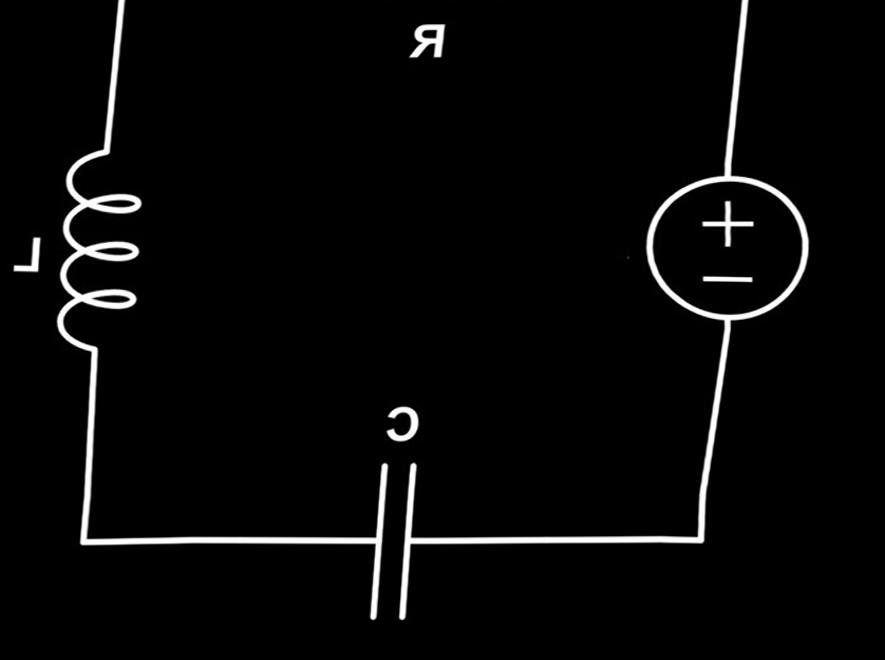Battery: (625, 153, 836, 343)
